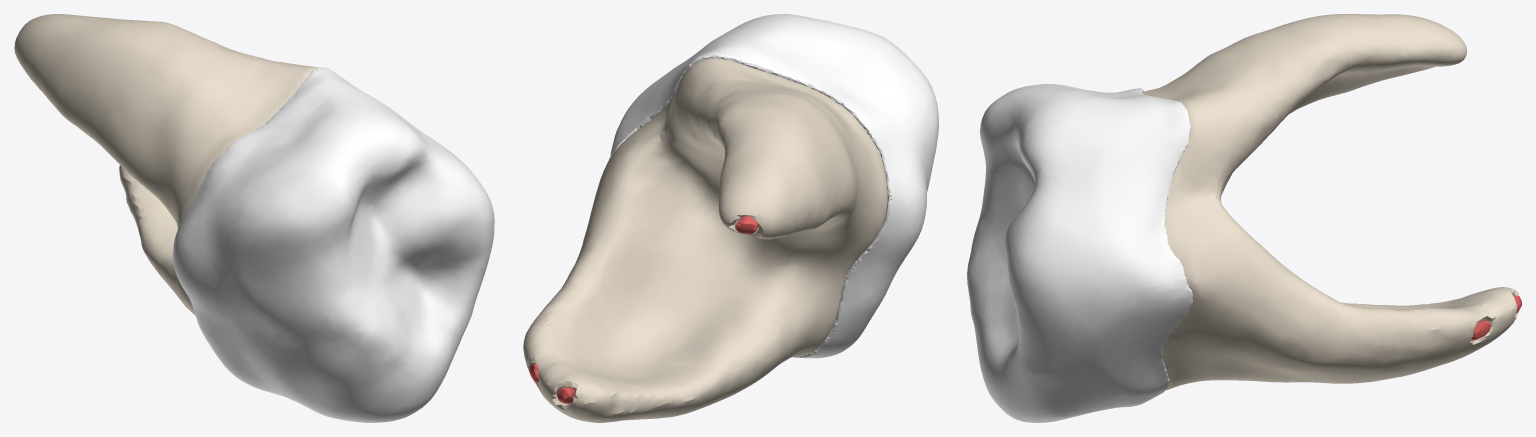
File: 乳牙下颌第一磨牙.fbx
The picture shows the model from 3 angles, left to right: view 1: azimuth 30°, elevation 25°; view 2: azimuth 150°, elevation 25°; view 3: azimuth 270°, elevation 25°; orthographic projection. The views are drawn at different scales.
Parts seen in each view (by area): view 1: texture_W, texture_B; view 2: texture_B, texture_W, texture_S; view 3: texture_W, texture_B.
Boxes of the visible parts, bbox=[...] form: texture_W: bbox=[173, 67, 494, 422]; texture_B: bbox=[14, 14, 318, 315]; texture_B: bbox=[523, 58, 887, 422]; texture_W: bbox=[609, 14, 938, 358]; texture_S: bbox=[529, 215, 758, 403]; texture_W: bbox=[967, 84, 1192, 422]; texture_B: bbox=[1142, 14, 1519, 390].
Size of the model in its own units: 14.08 by 14.3 by 21.41.
3 materials, 3 textured.
